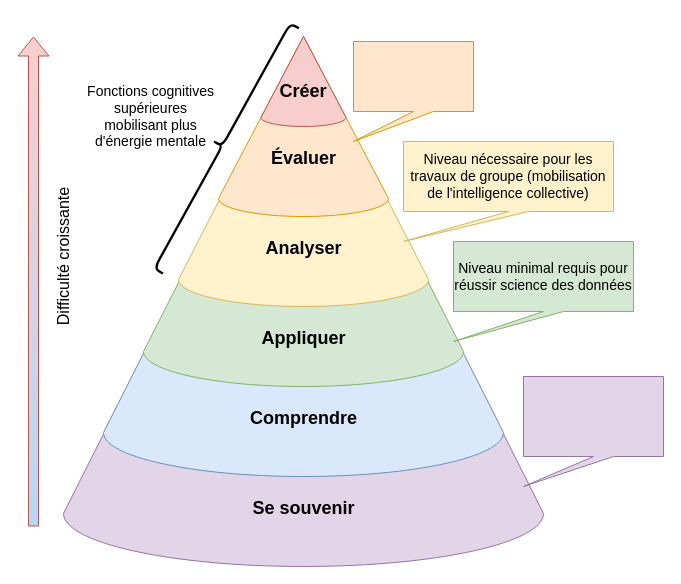
Image size: 681x584. Some labels were removed from this diagram. Each missing label, with the centre of its shape:
Niveau suffisant pour réussir la plupart des cours en biologie (hélas !): the point at 593,431
Niveau visé pour les meilleurs (critique statistique): the point at 413,91
